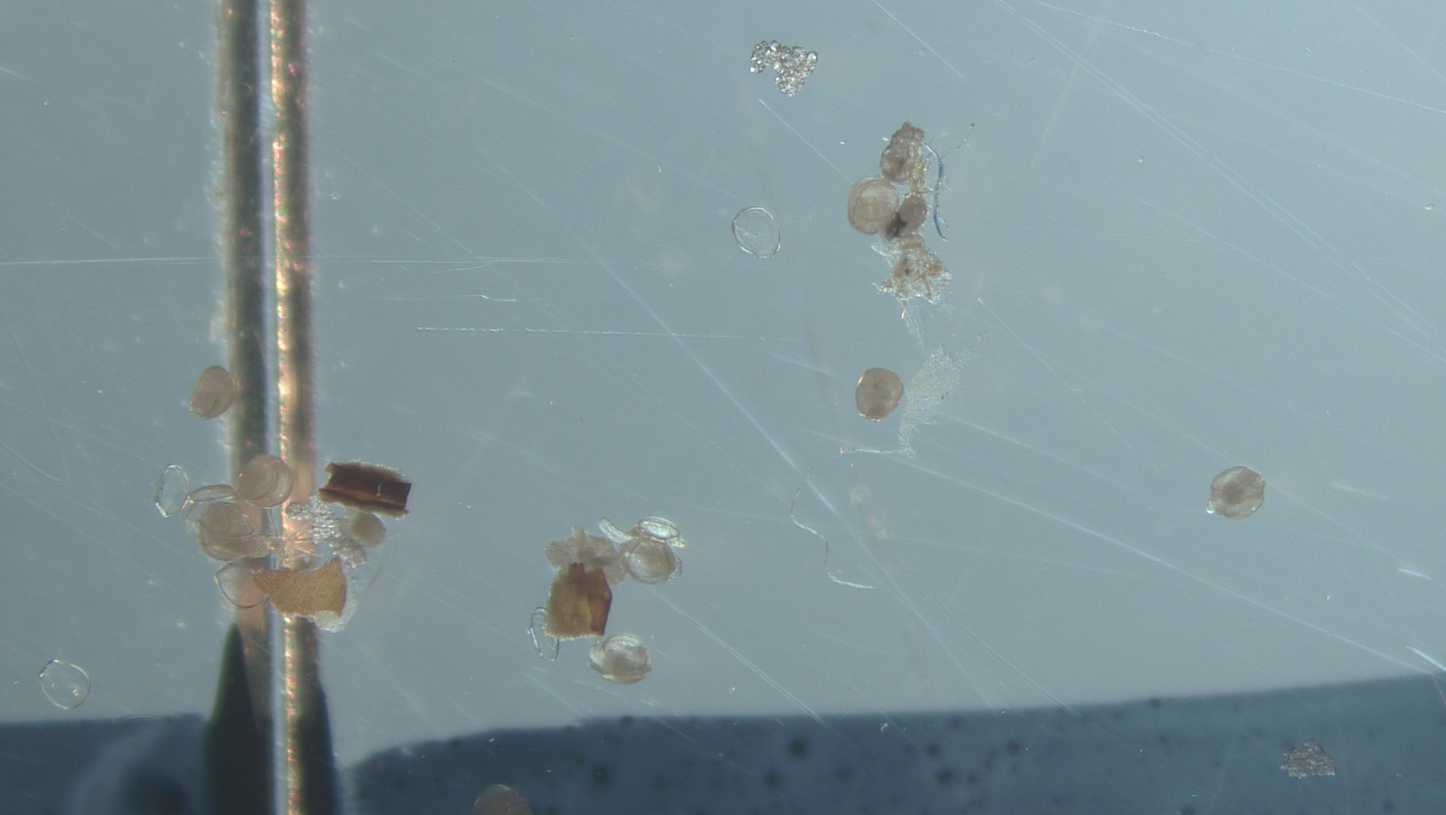dead: (38, 660, 90, 710), (732, 207, 780, 259), (593, 634, 650, 673), (215, 561, 261, 608), (185, 501, 231, 542), (155, 465, 190, 517), (529, 608, 560, 660), (593, 660, 651, 685), (634, 517, 679, 542), (188, 485, 235, 504)
live: (600, 519, 680, 585), (197, 502, 269, 561), (234, 455, 293, 508), (1208, 466, 1265, 520), (847, 177, 899, 234), (856, 368, 904, 421), (190, 366, 237, 419), (201, 502, 254, 538), (472, 785, 533, 815), (344, 512, 385, 548)
